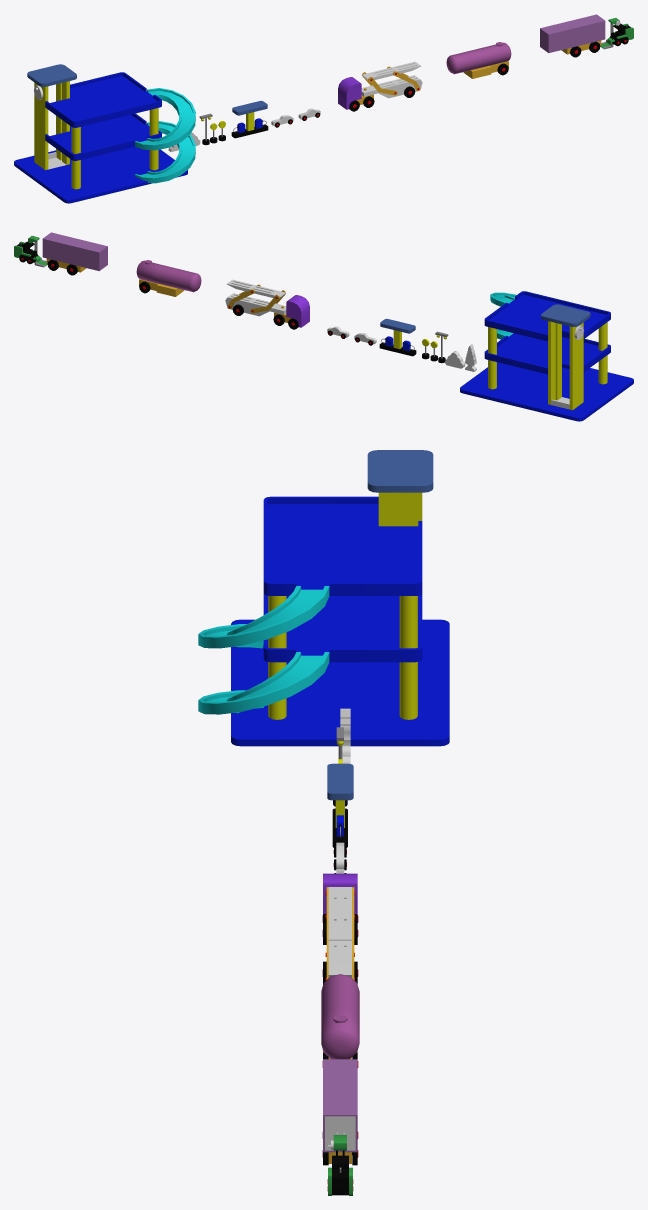
The model's file is ParkingToys.fbx.
3 renders of one model, top to bottom at view 1: azimuth 30°, elevation 25°; view 2: azimuth 150°, elevation 25°; view 3: azimuth 270°, elevation 25°, orthographic. The views are drawn at different scales.
Visible parts, largest first — view 1: ParkingGarage, Freight_Trailer, OilTanker, PetrolStation, Lorry, CarTransporter_Base_low, CarTransporter_Top, Forklift; view 2: ParkingGarage, Freight_Trailer, OilTanker, PetrolStation, Lorry, CarTransporter_Base_low, CarTransporter_Top, Forklift; view 3: ParkingGarage, OilTanker, Freight_Trailer, PetrolStation, CarTransporter_Top, Forklift.
Boxes of the visible parts, x1,y1,x2,y2 form: ParkingGarage: (14,64,195,203); Freight_Trailer: (540,14,605,54); OilTanker: (446,42,511,78); PetrolStation: (231,100,268,138); Lorry: (338,77,373,109); CarTransporter_Base_low: (361,75,422,98); CarTransporter_Top: (362,61,420,80); Forklift: (608,18,633,44); ParkingGarage: (460,291,633,421); Freight_Trailer: (42,232,107,272); OilTanker: (136,260,201,296); PetrolStation: (379,318,416,356); Lorry: (274,295,309,327); CarTransporter_Base_low: (225,293,286,316); CarTransporter_Top: (227,279,285,298); Forklift: (14,236,39,262); ParkingGarage: (198,450,449,746); OilTanker: (321,974,359,1059); Freight_Trailer: (323,1059,357,1163); PetrolStation: (327,763,353,847); CarTransporter_Top: (328,887,351,940); Forklift: (328,1135,352,1195).
Bounding box in the file's own units: 375 × 56 × 68.99.
